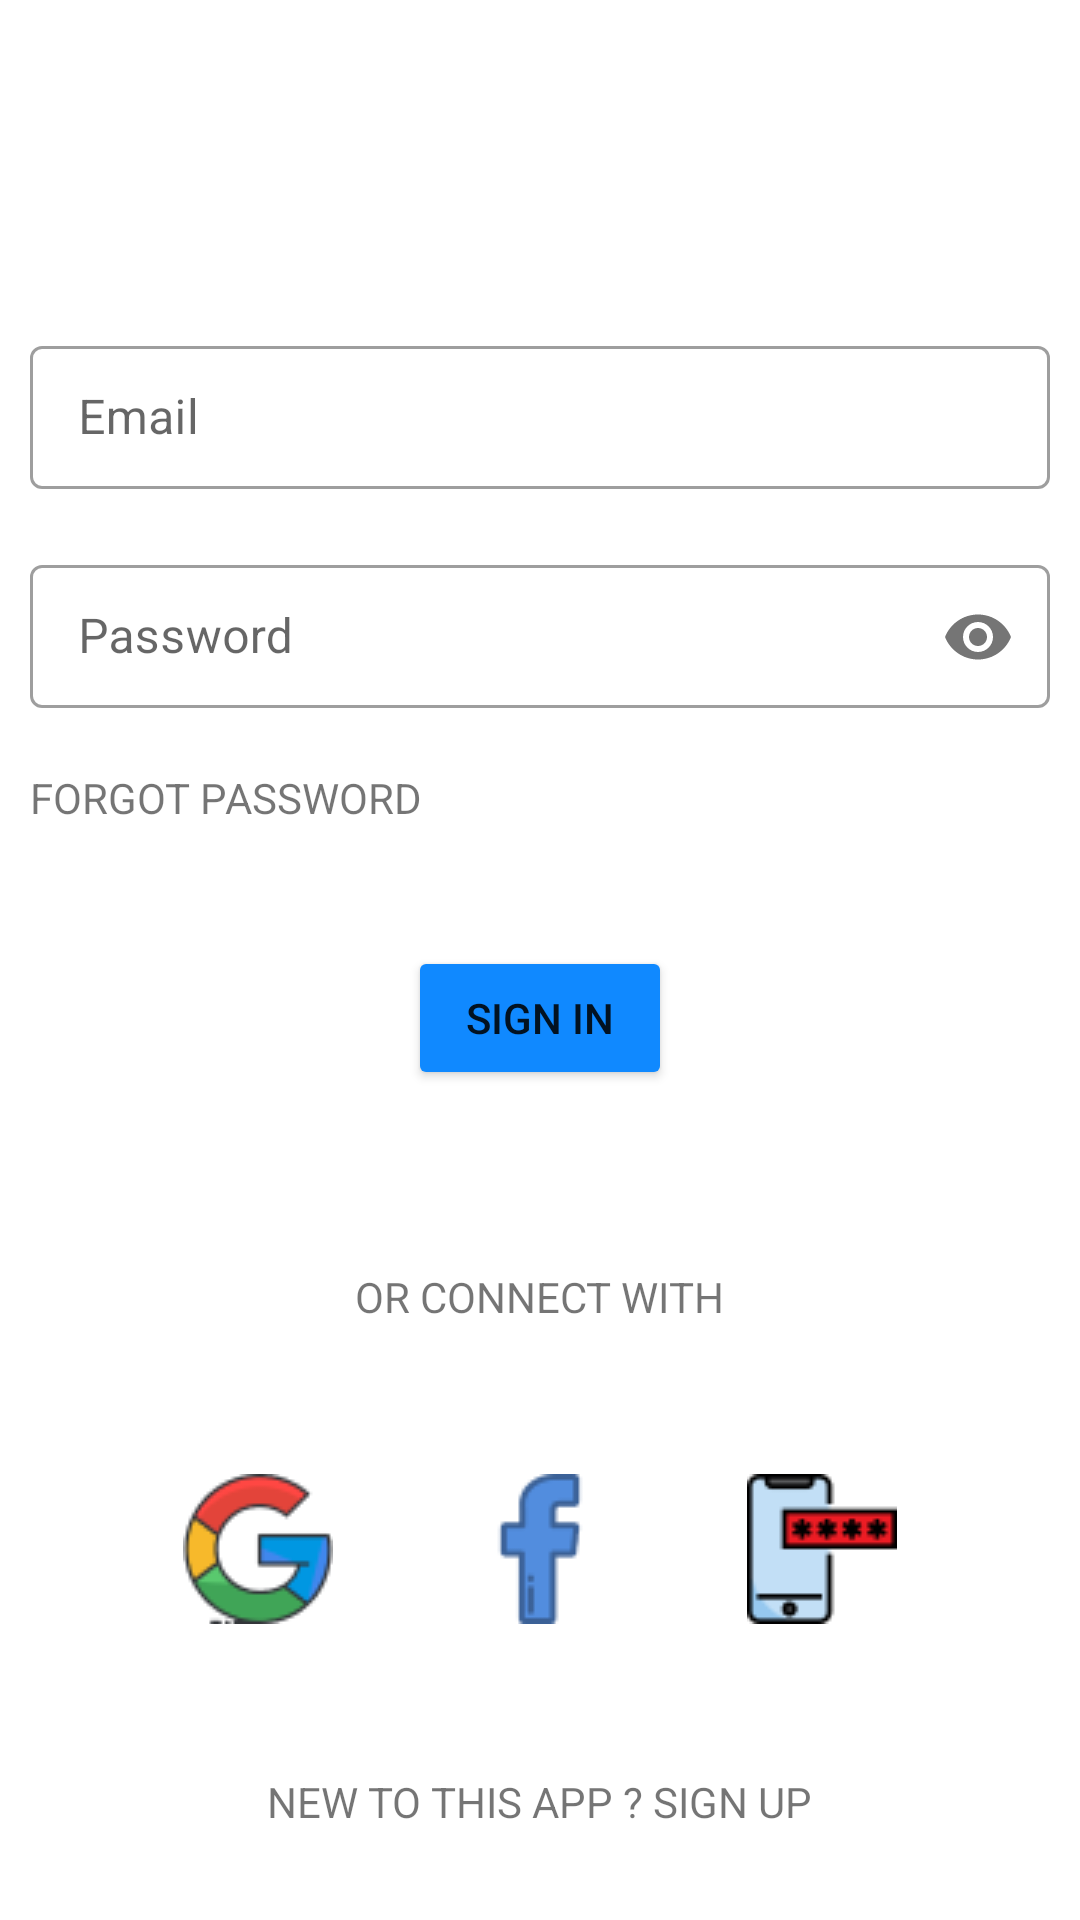

Icon click points for this 1080px x 1920px phone screenshot, format point (x, y):
PhoneOtp SignUp: point (822, 1549)
